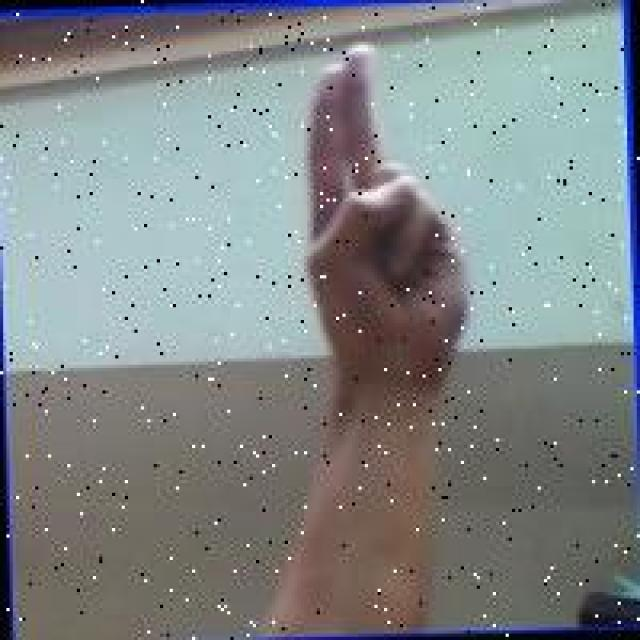U: (293, 32, 478, 378)
